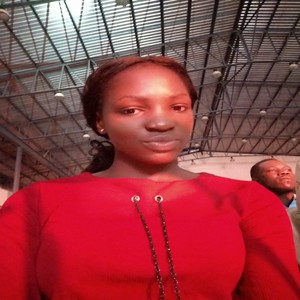Fulokoja_female_student: (96, 67, 214, 297)
